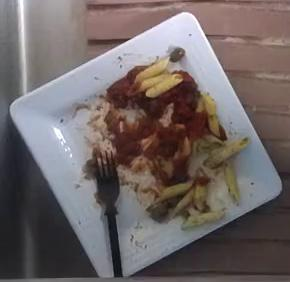pasta: (104, 47, 224, 184), (147, 135, 248, 229)
